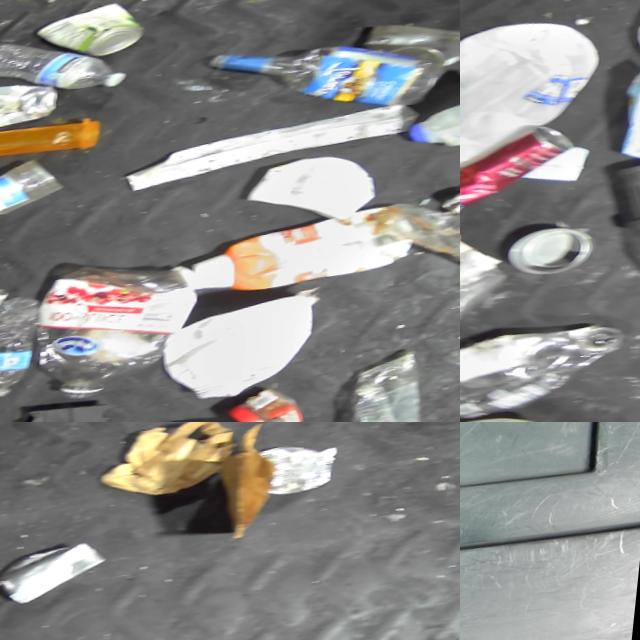can: (460, 117, 593, 230), (0, 533, 125, 608), (27, 0, 156, 71), (249, 429, 358, 498), (510, 217, 608, 281), (0, 64, 77, 145), (220, 374, 326, 422)
milk_jug: (460, 5, 625, 179), (386, 63, 460, 165), (460, 396, 612, 422)
non_white_jug: (460, 310, 640, 422)
plastic_bottle: (33, 242, 231, 404), (0, 10, 145, 112), (0, 288, 71, 409)
